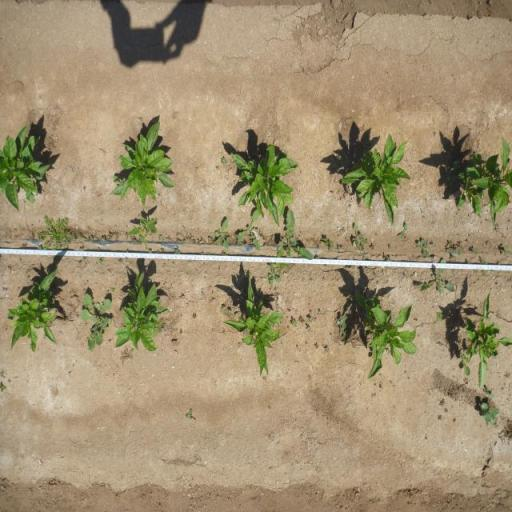plant: (341, 133, 410, 224), (355, 292, 419, 380), (118, 120, 177, 208), (232, 280, 284, 378), (462, 291, 512, 390), (230, 146, 300, 212), (0, 120, 50, 212), (7, 267, 61, 352), (460, 138, 512, 224), (116, 274, 162, 352), (418, 258, 455, 293)
weed: (79, 294, 114, 352), (280, 210, 314, 258), (38, 214, 76, 251), (236, 210, 260, 252), (131, 216, 158, 238), (214, 218, 230, 250), (352, 222, 370, 248), (480, 402, 499, 426), (274, 249, 288, 276), (267, 262, 280, 287), (445, 160, 459, 182), (446, 240, 464, 256), (118, 348, 136, 364), (416, 238, 430, 258), (339, 322, 350, 344), (459, 352, 468, 377), (320, 236, 334, 252), (482, 386, 496, 399), (186, 236, 204, 246), (78, 233, 94, 243), (184, 407, 195, 421), (481, 258, 489, 277), (399, 223, 408, 239), (158, 317, 166, 334), (107, 230, 120, 240), (336, 314, 348, 324), (501, 244, 511, 256), (434, 310, 444, 322), (77, 256, 88, 266), (132, 235, 142, 246), (382, 252, 392, 262), (236, 240, 248, 248), (207, 236, 216, 246), (201, 250, 215, 256), (98, 256, 106, 266), (155, 247, 165, 254), (298, 315, 305, 324), (0, 384, 7, 393), (360, 244, 366, 254), (292, 318, 298, 328), (336, 244, 344, 251), (438, 399, 446, 406), (176, 238, 186, 243), (436, 414, 443, 421), (109, 286, 116, 293), (100, 236, 106, 244), (340, 227, 346, 235), (308, 315, 314, 323), (472, 247, 478, 255), (221, 156, 227, 164), (117, 258, 124, 264), (174, 248, 180, 255), (220, 305, 226, 312), (306, 326, 312, 333), (166, 235, 172, 241), (222, 250, 228, 256), (1, 287, 8, 292), (370, 242, 374, 250), (22, 243, 27, 249), (78, 246, 84, 251), (158, 234, 162, 240), (148, 248, 152, 254), (316, 254, 320, 260), (388, 244, 392, 250), (324, 348, 330, 352), (350, 295, 354, 301), (410, 274, 414, 280), (444, 407, 448, 413), (125, 256, 128, 263), (193, 313, 197, 318), (13, 228, 17, 232), (316, 342, 318, 350), (228, 310, 231, 315), (126, 265, 128, 272), (126, 232, 128, 238), (182, 293, 184, 299), (180, 328, 182, 334)
